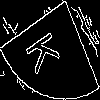K: (25, 25, 67, 76)
